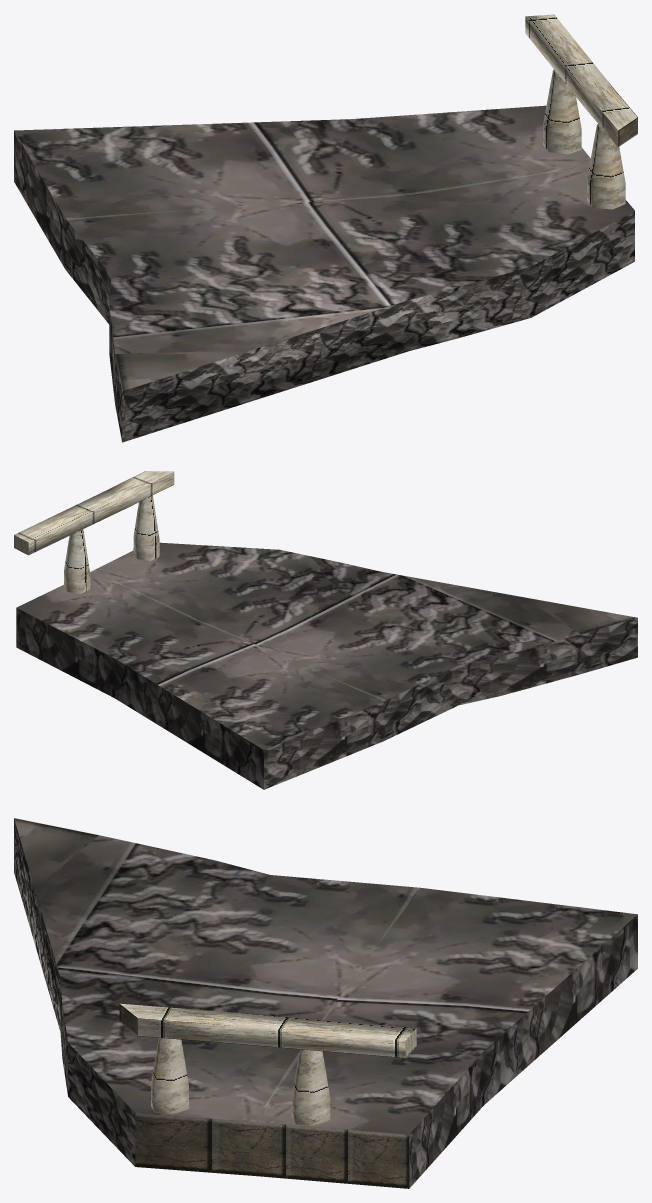
File: INST_SM_WALKWAY_BROKENB_1.fbx
3 views of the same model, one above another, from view 1: azimuth 30°, elevation 25°; view 2: azimuth 150°, elevation 25°; view 3: azimuth 270°, elevation 25° (orthographic). The views are drawn at different scales.
Visible parts, largest first — view 1: INST_SM_WALKWAY_BROKENB_1; view 2: INST_SM_WALKWAY_BROKENB_1; view 3: INST_SM_WALKWAY_BROKENB_1.
Part boxes in pixels (left/top/right/bottom): INST_SM_WALKWAY_BROKENB_1: left=14, top=14, right=637, bottom=442; INST_SM_WALKWAY_BROKENB_1: left=14, top=471, right=637, bottom=789; INST_SM_WALKWAY_BROKENB_1: left=14, top=818, right=637, bottom=1188.
Size of the model in its own units: 77067 by 16994 by 63703.
Materials: 5 (5 with a texture image).
